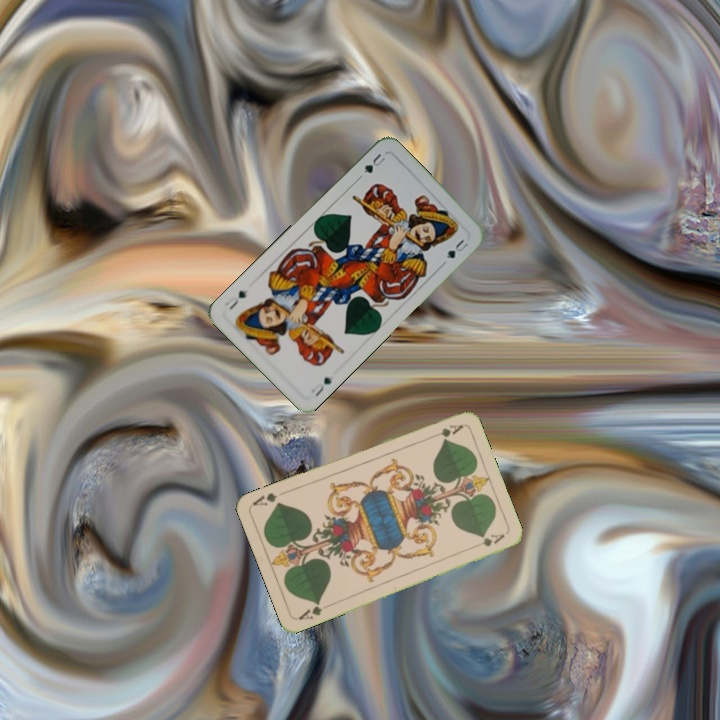GA: (294, 598, 332, 623), (426, 420, 465, 441)
GU: (359, 149, 388, 176), (307, 373, 335, 399)
